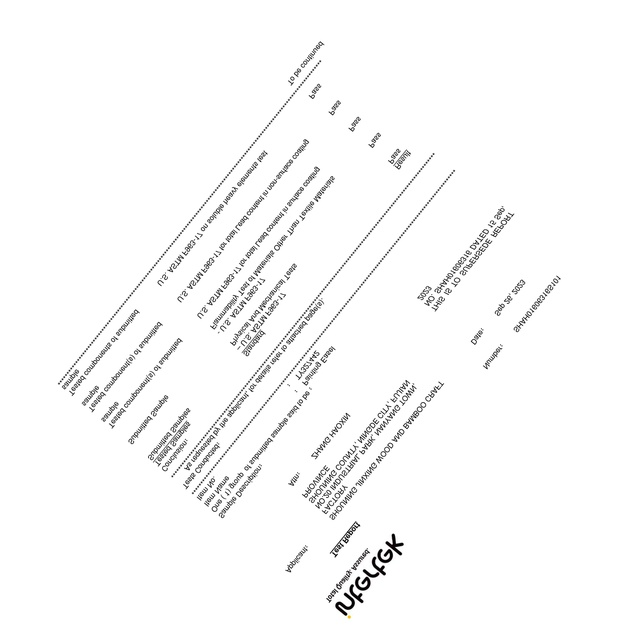intertek: (328, 530, 407, 622)
